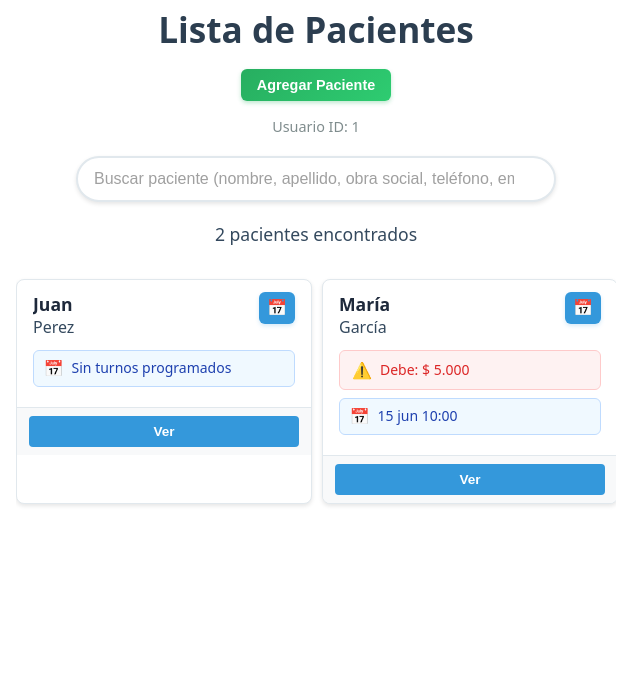
Patients component › opens new patient form when add button is clicked
Click the button "Agregar Paciente" at (316, 85), box [241,69,391,101]
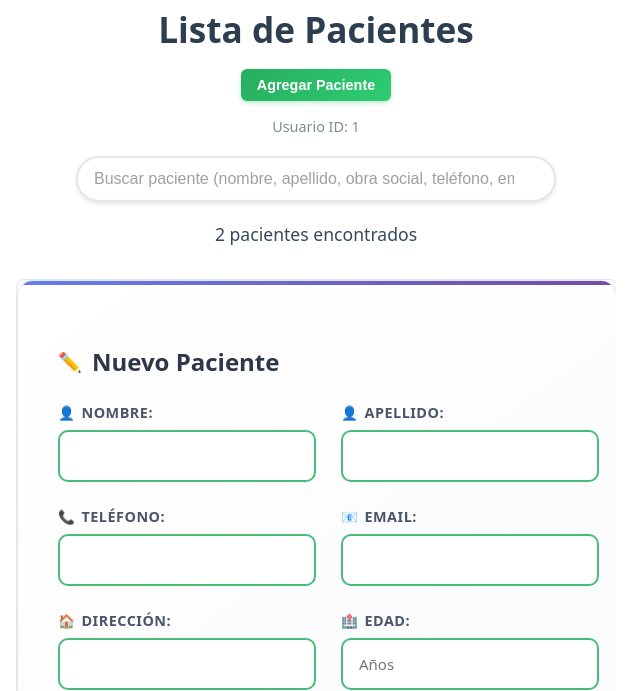
Now the heading "Nuevo Paciente" is shown, box [92,345,280,378]
